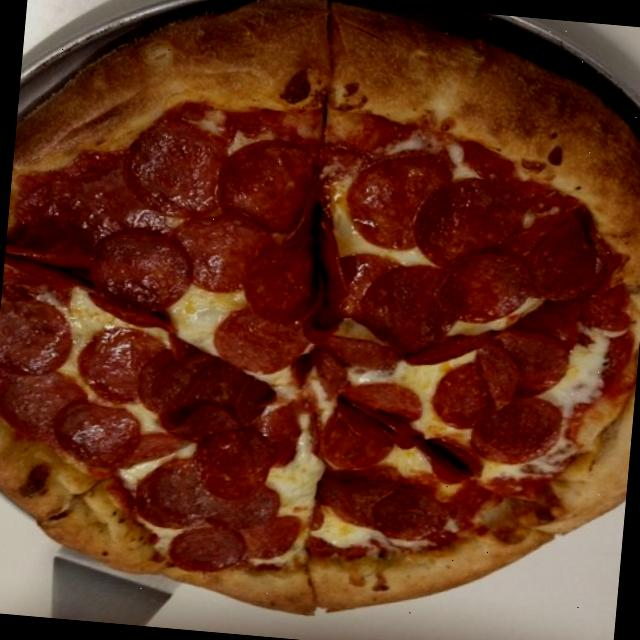pepperoni: (316, 132, 608, 474), (120, 115, 316, 308), (0, 259, 161, 481), (32, 156, 198, 314), (71, 324, 272, 454), (125, 462, 298, 584), (301, 459, 461, 552), (223, 240, 334, 374), (178, 402, 306, 516)
pizza: (0, 0, 640, 614)
